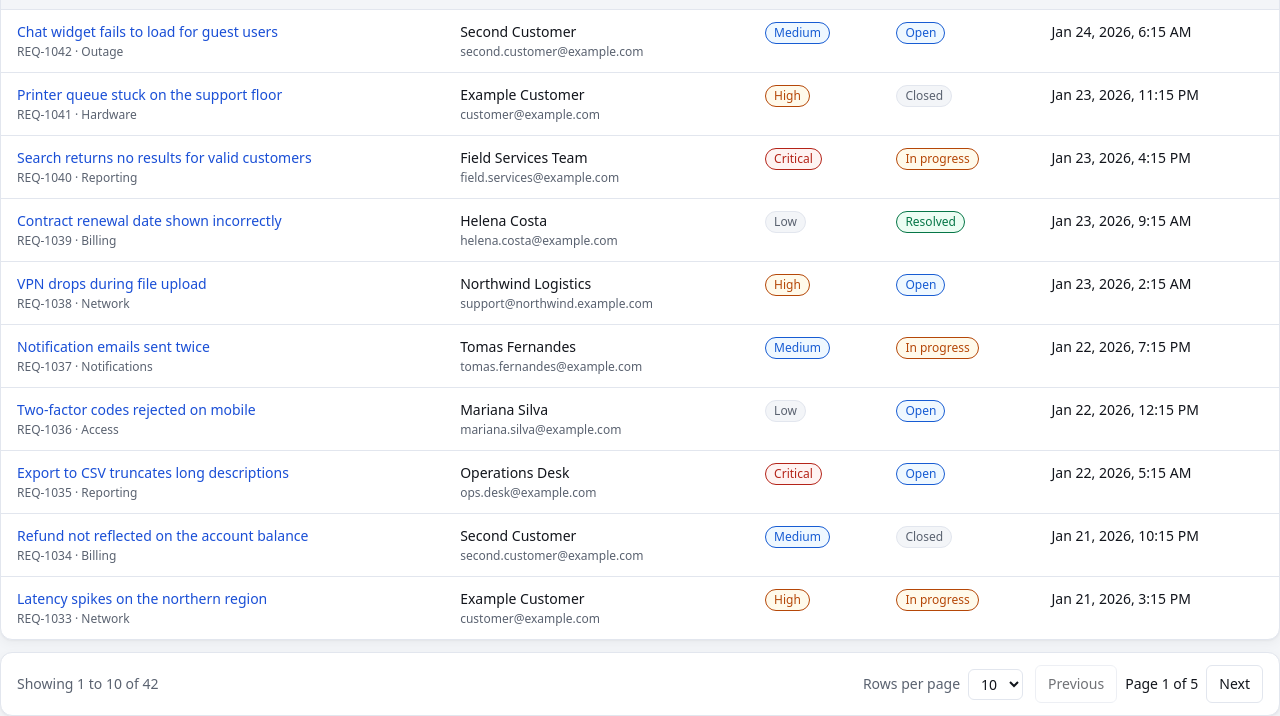
Test case: RequestsListPage › changes how many rows a page holds
The width and height of the screenshot is (1280, 716).
(page scrolled)
Select "25" in the dropdown labelled "Rows per page" at coordinates (996, 684), box [968, 668, 1023, 700]
(page scrolled)
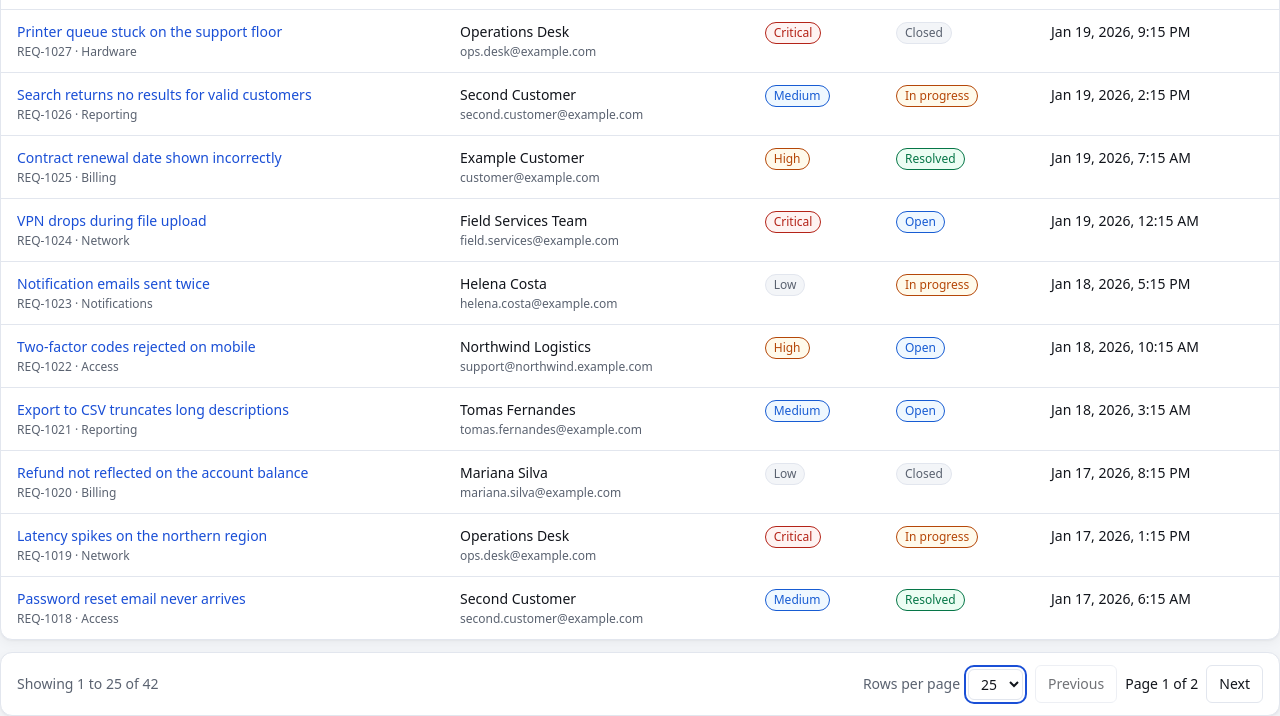
Check: the text "Showing 1 to 25 of 42" is shown, box [17, 674, 158, 694]
